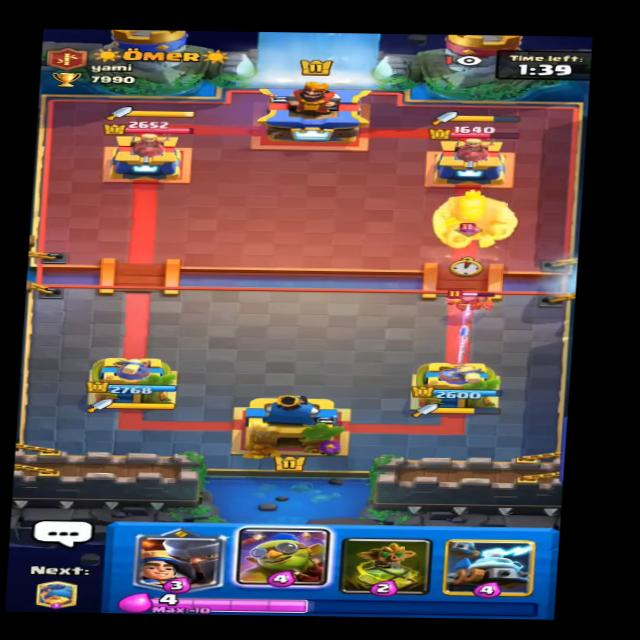Minipekka: (441, 284, 507, 317)
Royalgiant: (417, 189, 525, 252)
